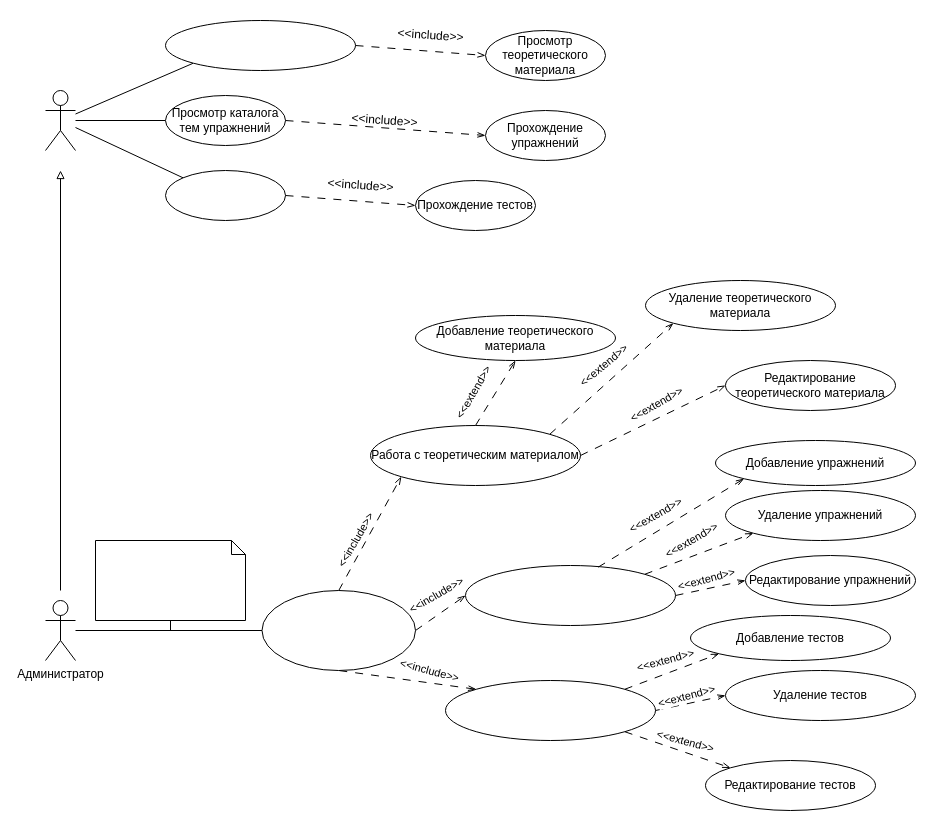
The diagram is 933 pixels wide and 828 high, and some of its shapes have lost their labels. Here are the shapes that lost their labels. From the top down, the box of each, then its label:
(164, 20, 356, 70): Просмотр каталога тем теоретического материала
(44, 90, 76, 150): Учащийся
(164, 170, 286, 220): Просмотр каталога тестов
(94, 540, 246, 620): Доступно после регистрации от имени администратора
(464, 564, 676, 626): Работа с упражнениями
(261, 590, 416, 670): Работа в администрационной панели
(444, 680, 656, 740): Работа с тестами
